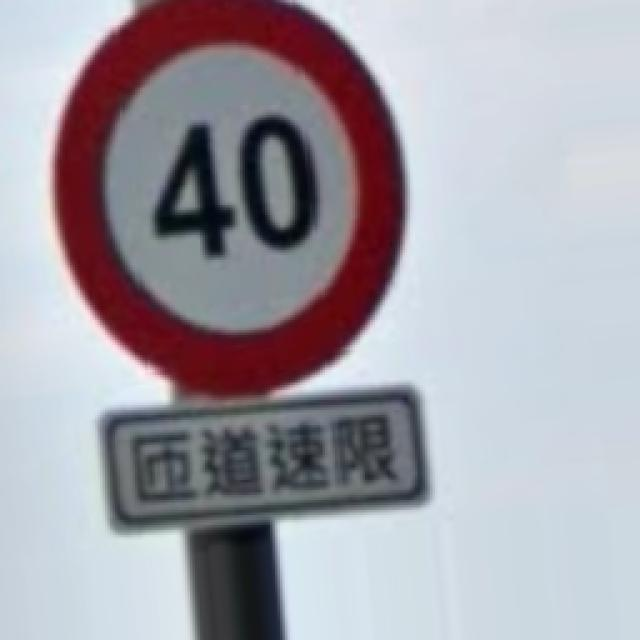Speed Limit -40-: (58, 0, 402, 392)
